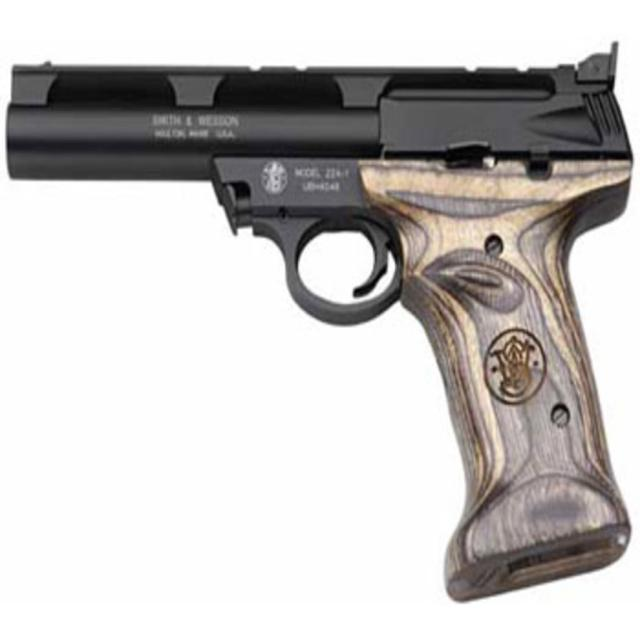Gun: (6, 49, 634, 599)
